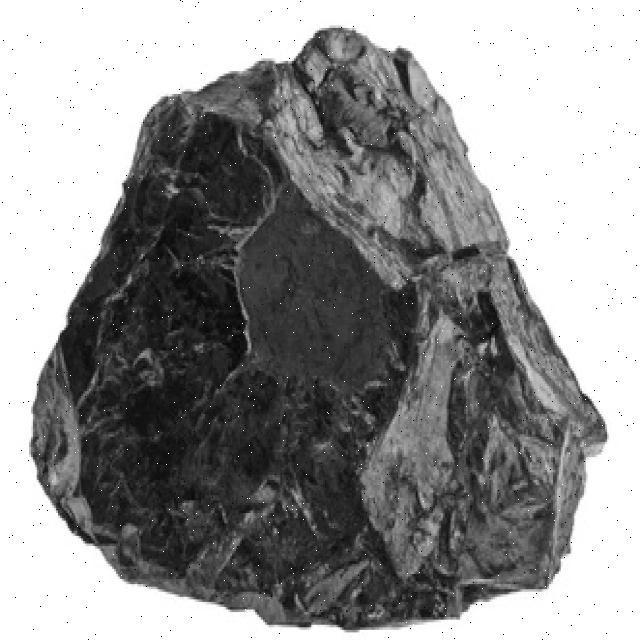Sedimentary: (35, 28, 611, 627)
